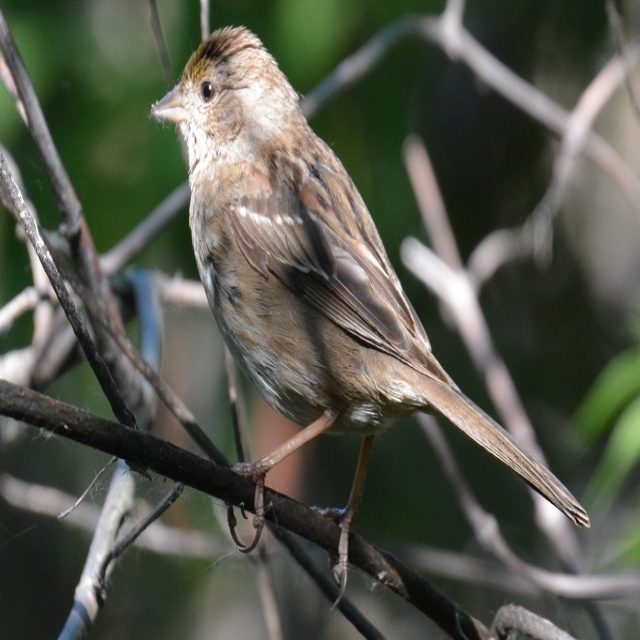Sparrow: (152, 22, 592, 617)
